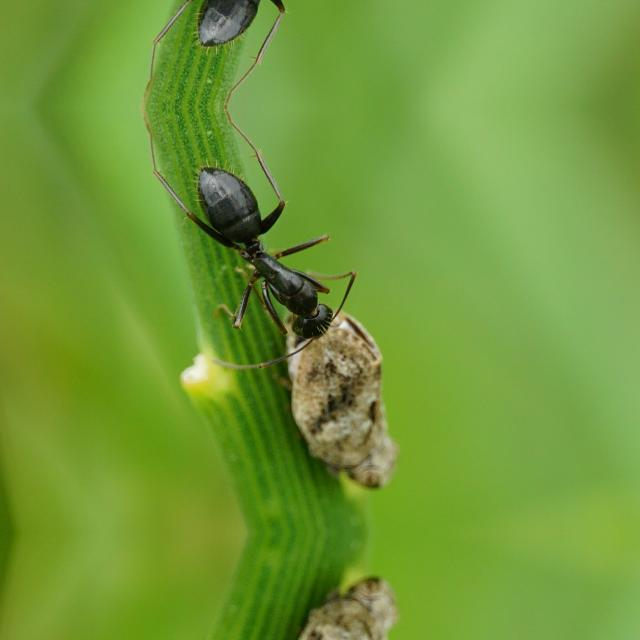Camponotus: (156, 143, 380, 364), (154, 0, 380, 68)
